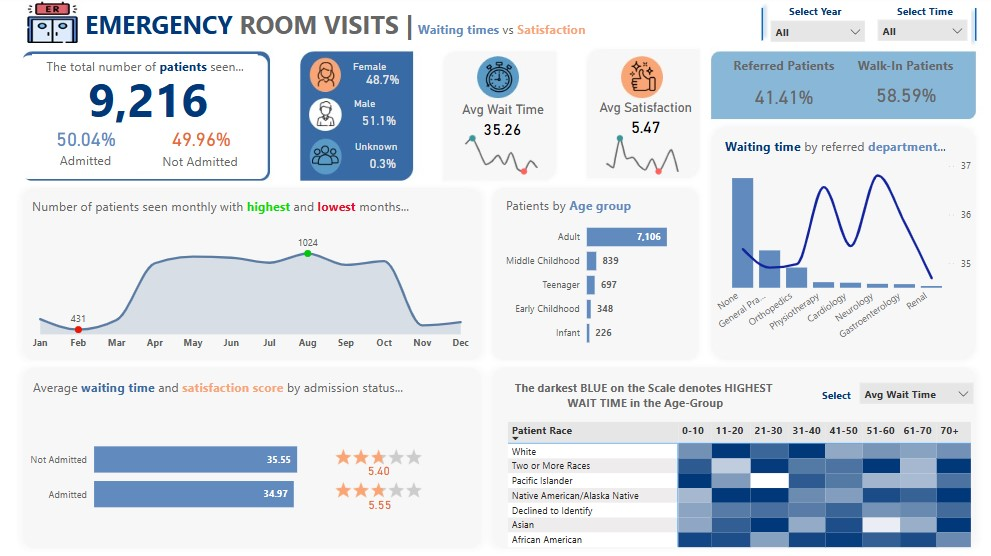

This screenshot's page, from the dashboard's own definition file:
{"tool":"powerbi","page":{"name":"Page 1","canvas":[1280,720],"ordinal":0},"visuals":[{"type":"card","fields":{"Values":["_Measures.Total Patients"]},"box":[50.1,92.5,280.2,74.5],"z":0},{"type":"card","fields":{"Values":["_Measures.% Admin Schedule"]},"box":[53.5,167.5,111.6,31.9],"z":1000},{"type":"card","title":"Avg Satisfaction","fields":{"Values":["_Measures.Avg Satisfaction Score"]},"box":[763.4,133.7,132.4,50.1],"z":2000},{"type":"pivotTable","fields":{"Values":["_Measures.Avg Wait Time"],"Rows":["Patients Table.patient_race"],"Columns":["Patients Table.Age Bins"]},"box":[647.7,542.3,605.3,178.6],"z":3000},{"type":"slicer","fields":{"Values":["Parameter.Parameter"]},"box":[1094.9,487.1,165.8,47.6],"z":4000},{"type":"clusteredBarChart","fields":{"Category":["Patients Table.Age Group"],"Y":["_Measures.Total Patients"]},"box":[637.4,272.4,258.3,191.5],"z":5000},{"type":"areaChart","title":"Total Patients Visits","fields":{"Category":["Date.Month"],"Y":["_Measures.Total Patients","_Measures.CF Max Value (Month)"]},"box":[27,287.9,589.9,176.1],"z":6000},{"type":"card","fields":{"Values":["_Measures.% Referral"]},"box":[951,111.8,113.1,34.7],"z":7000},{"type":"card","fields":{"Values":["_Measures.HeatMap Caption"]},"box":[641.3,483.2,372.7,59.1],"z":8000},{"type":"card","fields":{"Values":["_Measures.% NonAdmin Schedule"]},"box":[193.7,167.5,128.7,31.9],"z":9000},{"type":"slicer","fields":{"Values":["Patients Table.moment"]},"box":[1118.1,20.6,134.9,46.3],"z":10000},{"type":"textbox","box":[44.4,194.8,129.9,34.2],"z":11000},{"type":"textbox","box":[191.4,197.1,131,31.9],"z":12000},{"type":"card","title":"Avg Wait Time","fields":{"Values":["_Measures.Avg Wait Time"]},"box":[587.3,136.2,118.2,51.4],"z":13000},{"type":"card","fields":{"Values":["_Measures.% Non Referral"]},"box":[1107.8,108,113.1,38.6],"z":14000},{"type":"textbox","box":[930.4,73.3,154.2,34.7],"z":15000},{"type":"textbox","box":[1092.4,73.3,142.7,36],"z":16000},{"type":"card","fields":{"Values":["_Measures.% FemalePatients"]},"box":[464.2,91.6,56.5,33.4],"z":17000},{"type":"card","fields":{"Values":["_Measures.% NcPatients"]},"box":[463.8,199.2,56.5,32.1],"z":18000},{"type":"card","fields":{"Values":["_Measures.% MalePatients"]},"box":[458.5,143.9,56.5,32.1],"z":19000},{"type":"textbox","box":[41.1,74.5,290.4,34.7],"z":20000},{"type":"textbox","box":[927,177.1,318.3,36],"z":21000},{"type":"textbox","box":[36,254.5,514.1,36],"z":22000},{"type":"textbox","box":[645.1,253.2,249.3,36],"z":23000},{"type":"slicer","fields":{"Values":["Date.Year"]},"box":[980.6,21.8,141.4,60.4],"z":24000},{"type":"textbox","box":[37.3,487.1,548.8,36],"z":25000},{"type":"textbox","box":[448.8,76.2,64.3,28.3],"z":26000},{"type":"textbox","box":[449.8,123.4,61.7,28.3],"z":27000},{"type":"textbox","box":[451,178.6,78.4,28.3],"z":28000},{"type":"textbox","box":[104.1,9,678.6,52.7],"z":29000},{"type":"textbox","box":[1051.2,498.6,66.8,27],"z":30000},{"type":"shape","box":[967.7,6.4,24.4,60.4],"z":31000},{"type":"shape","box":[1241.4,6.7,25,60],"z":32000},{"type":"clusteredBarChart","fields":{"Category":["Patients Table.Admin Status"],"Y":["_Measures.Avg Wait Time"]},"box":[27,525.6,398.4,178.6],"z":33000},{"type":"card","fields":{"Values":["_Measures.Avg SatAdm"]},"box":[454.9,638.7,66.8,32.1],"z":34000},{"type":"textbox","box":[1008.8,5.1,90,27],"z":35000},{"type":"card","fields":{"Values":["_Measures.Avg SatNonAdm"]},"box":[448.5,595,77.1,32.1],"z":36000},{"type":"textbox","box":[1147.6,5.1,90,28.3],"z":37000},{"type":"PBI_CV_9053509D_D461_463A_B485_CE9F6AB0F13D","fields":{"value":["_Measures.Avg SatNonAdm"],"max":["_Measures.Max Sat Score"]},"box":[417.7,574.5,141.4,36],"z":38000},{"type":"PBI_CV_9053509D_D461_463A_B485_CE9F6AB0F13D","fields":{"max":["_Measures.Max Sat Score"],"value":["_Measures.Avg SatAdm"]},"box":[417.7,616.6,141.4,36],"z":39000},{"type":"PBI_CV_25997FEB_F466_44FA_B562_AC4063283C4C","title":"Total Patients Visits","fields":{"axis":["Date.Month"],"measure":["_Measures.Avg Satisfaction Score"]},"box":[762.1,165.8,131.1,70.7],"z":40000},{"type":"PBI_CV_25997FEB_F466_44FA_B562_AC4063283C4C","title":"Total Patients Visits","fields":{"axis":["Date.Month"],"measure":["_Measures.Avg Wait Time"]},"box":[580.9,165.8,131.1,70.7],"z":41000},{"type":"lineClusteredColumnComboChart","title":"Patients by Referral","fields":{"Y2":["_Measures.Avg Wait Time"],"Category":["Patients Table.department_referral"],"Y":["_Measures.Total Patients"]},"box":[915,204.3,338,259.6],"z":42000}]}

Visuals, with their boxes in screenshot pixels (x1, y1, x2, y2), scaled from the page's 1280x720 canvas onto the 991x556 screenshot:
card - _Measures.Total Patients: 39:71:256:129
card - _Measures.% Admin Schedule: 41:129:128:154
"Avg Satisfaction" card: 591:103:694:142
pivotTable - _Measures.Avg Wait Time x Patients Table.patient_race: 501:419:970:555
slicer - Parameter.Parameter: 848:376:976:413
clusteredBarChart - Patients Table.Age Group x _Measures.Total Patients: 493:210:693:358
"Total Patients Visits" areaChart: 21:222:478:358
card - _Measures.% Referral: 736:86:824:113
card - _Measures.HeatMap Caption: 497:373:785:419
card - _Measures.% NonAdmin Schedule: 150:129:250:154
slicer - Patients Table.moment: 866:16:970:52
textbox: 34:150:135:177
textbox: 148:152:250:177
"Avg Wait Time" card: 455:105:546:145
card - _Measures.% Non Referral: 858:83:945:113
textbox: 720:57:840:83
textbox: 846:57:956:84
card - _Measures.% FemalePatients: 359:71:403:97
card - _Measures.% NcPatients: 359:154:403:179
card - _Measures.% MalePatients: 355:111:399:136
textbox: 32:58:257:84
textbox: 718:137:964:165
textbox: 28:197:426:224
textbox: 499:196:692:223
slicer - Date.Year: 759:17:869:63
textbox: 29:376:454:404
textbox: 347:59:397:81
textbox: 348:95:396:117
textbox: 349:138:410:160
textbox: 81:7:606:48
textbox: 814:385:866:406
shape: 749:5:768:52
shape: 961:5:980:52
clusteredBarChart - Patients Table.Admin Status x _Measures.Avg Wait Time: 21:406:329:544
card - _Measures.Avg SatAdm: 352:493:404:518
textbox: 781:4:851:25
card - _Measures.Avg SatNonAdm: 347:459:407:484
textbox: 888:4:958:26
PBI_CV_9053509D_D461_463A_B485_CE9F6AB0F13D - _Measures.Avg SatNonAdm x _Measures.Max Sat Score: 323:444:433:471
PBI_CV_9053509D_D461_463A_B485_CE9F6AB0F13D - _Measures.Max Sat Score x _Measures.Avg SatAdm: 323:476:433:504
"Total Patients Visits" PBI_CV_25997FEB_F466_44FA_B562_AC4063283C4C: 590:128:692:183
"Total Patients Visits" PBI_CV_25997FEB_F466_44FA_B562_AC4063283C4C: 450:128:551:183
"Patients by Referral" lineClusteredColumnComboChart: 708:158:970:358
